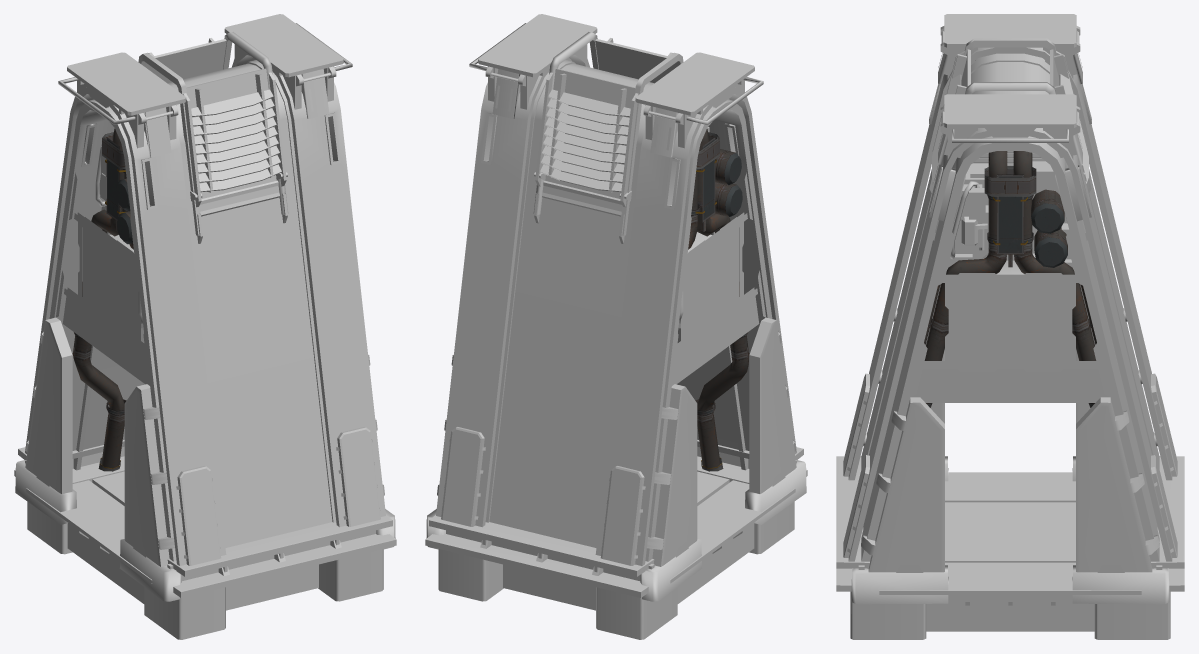
File: Radiator_Big_L2.fbx
3 renders of one model, left to right at view 1: azimuth 30°, elevation 25°; view 2: azimuth 150°, elevation 25°; view 3: azimuth 270°, elevation 25°, orthographic. The views are drawn at different scales.
Parts seen in each view (by area): view 1: Element3, Element4, Element5, Element2, Element1; view 2: Element3, Element4, Element5, Element2, Element1; view 3: Element4, Element3, Element5, Element2, Element1.
Part boxes in pixels (x1=…): Element3: x1=14, y1=50, x2=396, y2=597; Element4: x1=15, y1=14, x2=395, y2=639; Element5: x1=26, y1=32, x2=384, y2=549; Element2: x1=72, y1=128, x2=133, y2=471; Element1: x1=82, y1=228, x2=135, y2=338; Element3: x1=425, y1=50, x2=807, y2=597; Element4: x1=426, y1=14, x2=806, y2=639; Element5: x1=437, y1=32, x2=795, y2=549; Element2: x1=688, y1=128, x2=749, y2=471; Element1: x1=686, y1=228, x2=739, y2=338; Element4: x1=843, y1=14, x2=1177, y2=639; Element3: x1=836, y1=47, x2=1184, y2=594; Element5: x1=861, y1=38, x2=1159, y2=555; Element2: x1=924, y1=151, x2=1096, y2=407; Element1: x1=954, y1=286, x2=1066, y2=362.
Size of the model in its own units: 604 by 1220 by 733.
